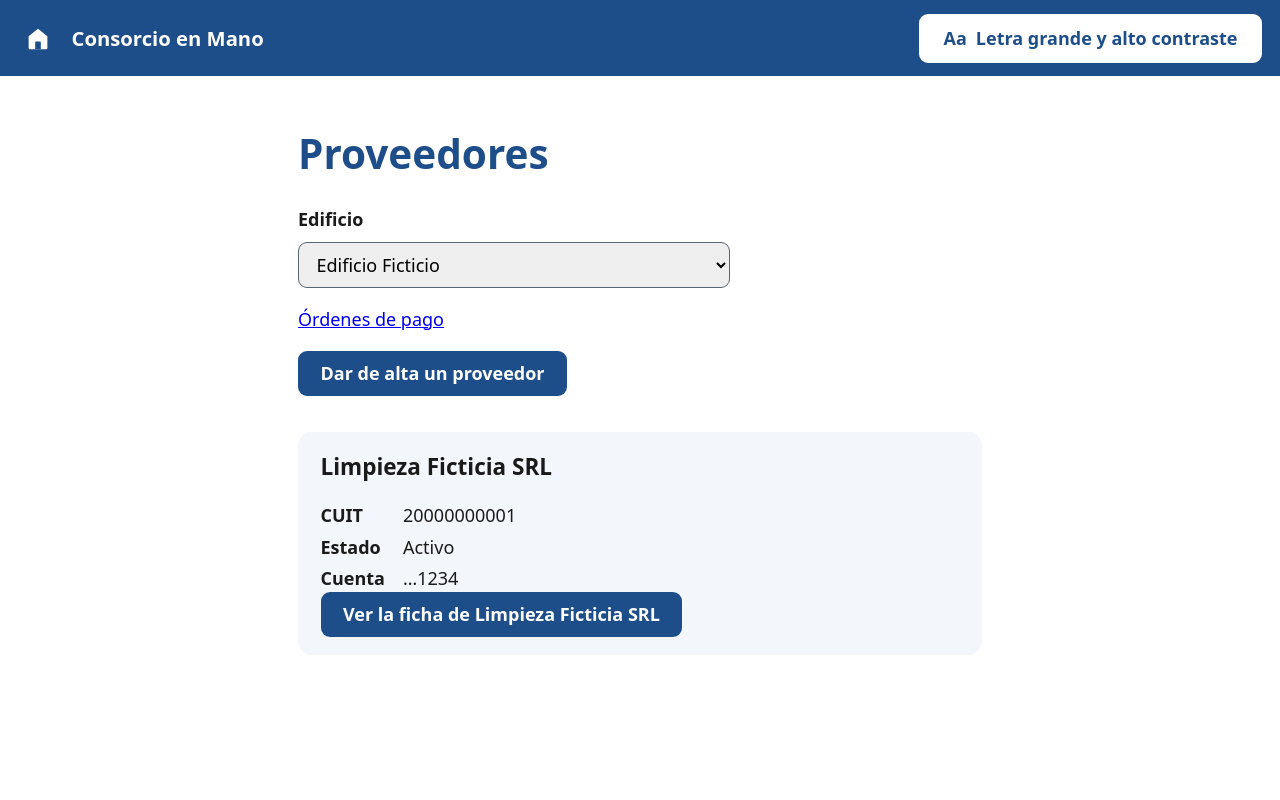
Scenario: página /egresos/proveedores › con varios edificios se elige cuál y se leen sus proveedores
The width and height of the screenshot is (1280, 800).
Expected: the button "Ver la ficha de Limpieza Ficticia SRL" is shown, [320, 592, 682, 637]
Step 1. Select "Otro Edificio Ficticio" in the dropdown labelled "Edificio" → (514, 265), box [298, 242, 730, 288]
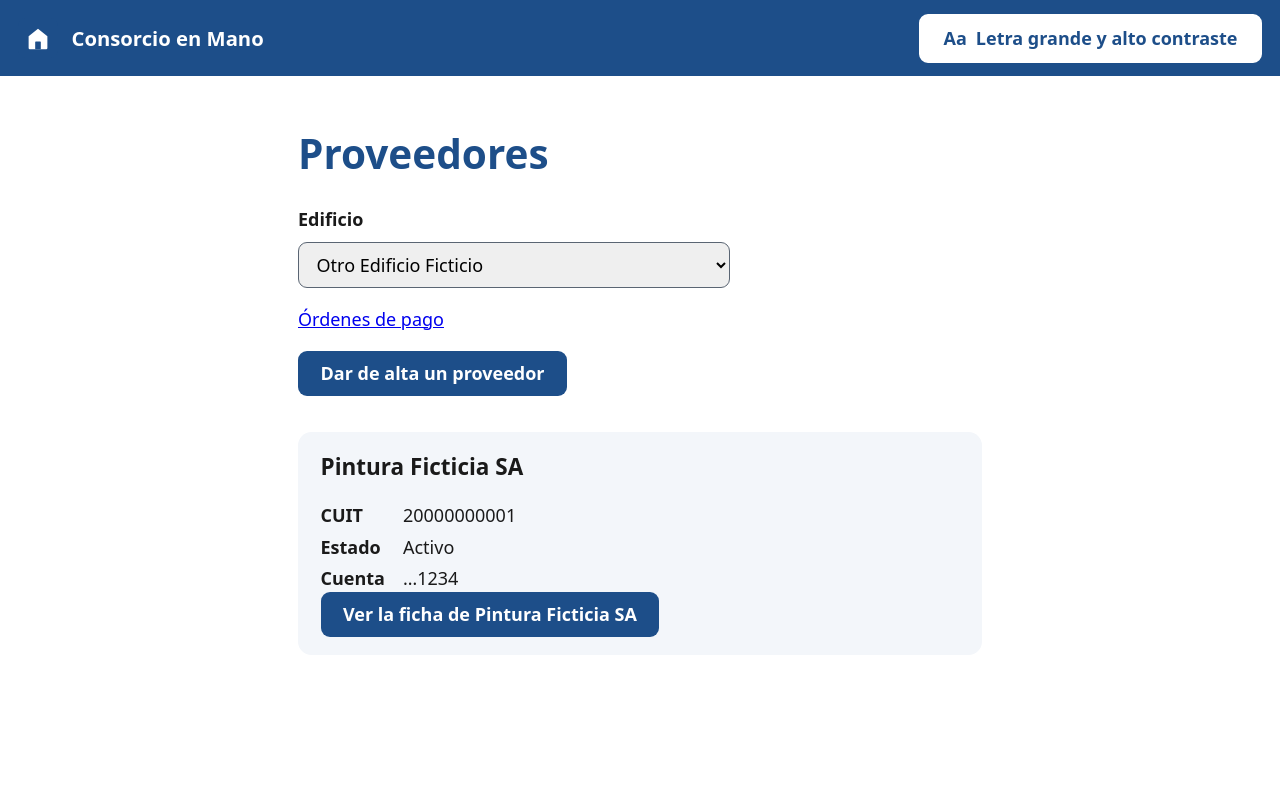
Expected: the button "Ver la ficha de Pintura Ficticia SA" is shown, [320, 592, 659, 637]
Expected: the button "Ver la ficha de Limpieza Ficticia SRL" is gone
